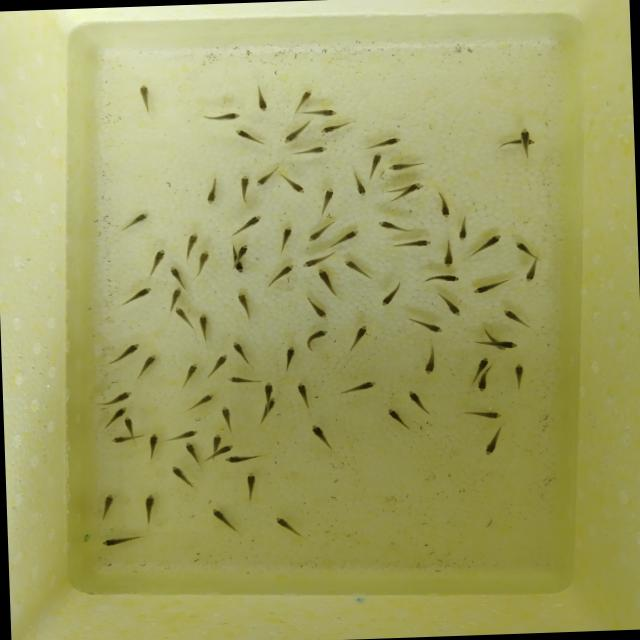fingerling: (102, 338, 142, 368), (477, 423, 509, 459), (248, 80, 278, 117), (92, 384, 138, 408), (92, 489, 122, 525), (469, 231, 507, 259), (262, 261, 300, 289), (224, 213, 266, 238), (405, 384, 437, 416), (208, 504, 240, 536), (272, 510, 306, 540), (115, 284, 155, 309), (499, 304, 536, 331), (340, 255, 374, 284), (99, 530, 148, 550), (382, 402, 413, 433), (432, 290, 464, 320), (311, 265, 340, 298), (306, 420, 334, 454), (230, 125, 268, 150), (330, 378, 382, 396), (343, 320, 372, 352), (384, 156, 428, 177), (404, 314, 446, 336), (468, 277, 514, 297), (118, 210, 152, 237), (300, 292, 330, 322), (291, 379, 318, 412), (229, 336, 256, 369), (174, 360, 203, 390), (129, 80, 155, 113), (276, 340, 300, 375), (138, 491, 162, 526), (279, 170, 310, 197), (134, 350, 160, 382), (230, 288, 254, 322), (377, 280, 406, 308), (360, 150, 387, 180), (170, 462, 197, 492), (272, 222, 298, 253), (180, 391, 218, 412), (145, 246, 169, 279), (363, 134, 409, 151), (200, 173, 223, 207), (304, 326, 334, 352), (316, 117, 357, 136), (328, 227, 361, 250), (288, 141, 330, 159), (457, 406, 507, 421), (222, 450, 266, 467), (239, 469, 261, 502), (418, 346, 442, 376), (374, 218, 416, 235), (203, 352, 230, 378), (197, 108, 247, 122), (391, 234, 434, 250), (194, 308, 212, 346), (192, 248, 214, 279), (508, 357, 530, 388), (170, 305, 196, 331), (298, 104, 342, 119), (302, 221, 332, 243), (233, 173, 254, 204), (282, 120, 310, 142), (518, 258, 540, 286), (256, 398, 278, 426), (317, 185, 338, 214), (433, 192, 453, 222), (469, 338, 519, 350), (218, 402, 238, 432), (145, 430, 163, 463), (420, 272, 462, 286), (453, 212, 473, 241), (438, 240, 458, 269), (166, 260, 186, 287), (162, 428, 200, 442), (512, 237, 536, 259), (292, 85, 314, 108), (225, 372, 263, 385), (254, 168, 276, 190), (348, 174, 368, 198), (180, 228, 200, 252), (300, 252, 334, 266), (179, 440, 202, 460), (519, 126, 531, 158), (168, 285, 185, 305), (261, 379, 277, 397), (122, 415, 136, 434), (109, 404, 131, 416), (476, 374, 490, 392), (110, 433, 130, 445), (209, 430, 224, 445), (218, 442, 236, 454), (236, 242, 250, 256), (475, 355, 489, 368), (234, 262, 246, 274), (408, 182, 421, 191)
